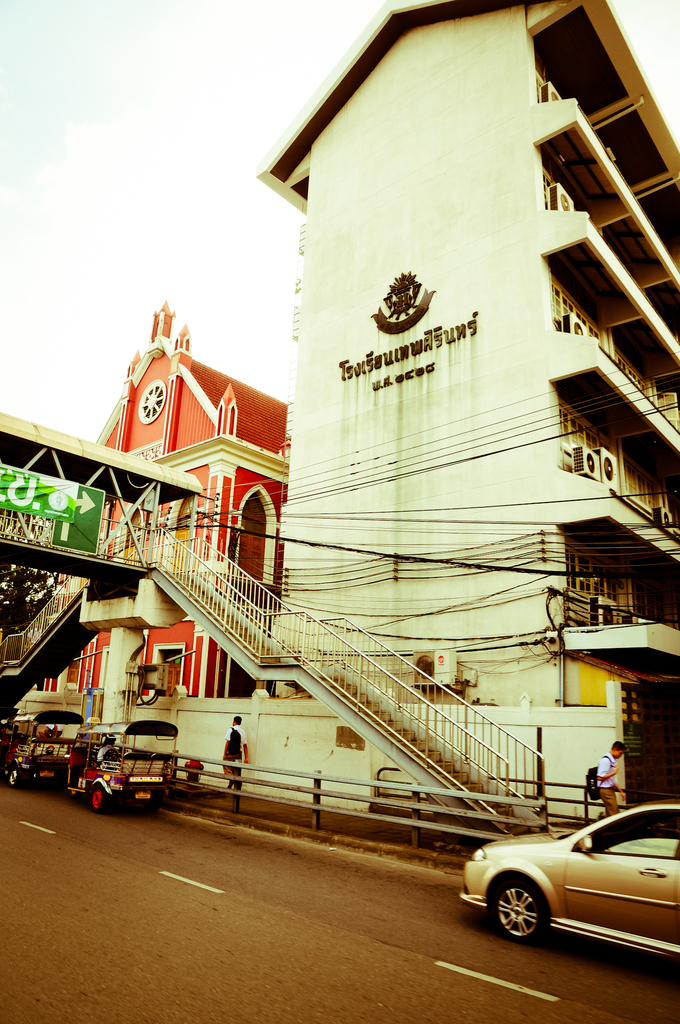mobil: (464, 791, 680, 976)
